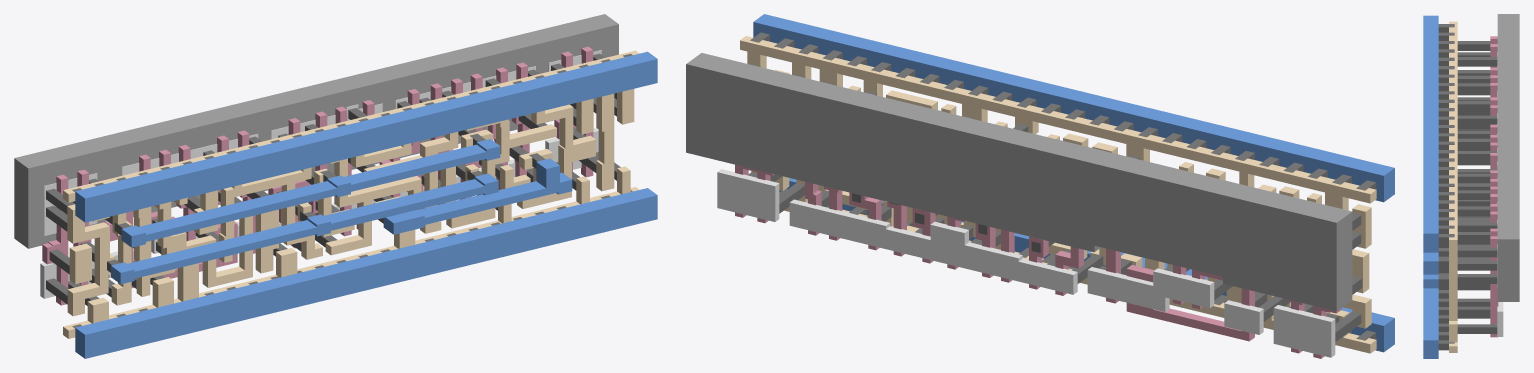
The model's file is sky130_fd_sc_hd__sdfrtp_2.gds.gltf.
3 renders of one model, left to right at view 1: azimuth 30°, elevation 25°; view 2: azimuth 150°, elevation 25°; view 3: azimuth 270°, elevation 25°, orthographic. The views are drawn at different scales.
Visible parts, largest first — view 1: sky130_fd_sc_hd__sdfrtp_2_met1, sky130_fd_sc_hd__sdfrtp_2_li1, sky130_fd_sc_hd__sdfrtp_2_nwell, sky130_fd_sc_hd__sdfrtp_2_poly, sky130_fd_sc_hd__sdfrtp_2_licon, sky130_fd_sc_hd__sdfrtp_2_diff, sky130_fd_sc_hd__sdfrtp_2_mcon; view 2: sky130_fd_sc_hd__sdfrtp_2_nwell, sky130_fd_sc_hd__sdfrtp_2_li1, sky130_fd_sc_hd__sdfrtp_2_diff, sky130_fd_sc_hd__sdfrtp_2_met1, sky130_fd_sc_hd__sdfrtp_2_poly, sky130_fd_sc_hd__sdfrtp_2_mcon, sky130_fd_sc_hd__sdfrtp_2_licon; view 3: sky130_fd_sc_hd__sdfrtp_2_licon, sky130_fd_sc_hd__sdfrtp_2_nwell, sky130_fd_sc_hd__sdfrtp_2_met1, sky130_fd_sc_hd__sdfrtp_2_mcon, sky130_fd_sc_hd__sdfrtp_2_li1, sky130_fd_sc_hd__sdfrtp_2_poly, sky130_fd_sc_hd__sdfrtp_2_diff.
Boxes of the visible parts, left/top/right/bottom form: sky130_fd_sc_hd__sdfrtp_2_met1: left=75, top=51, right=657, bottom=358; sky130_fd_sc_hd__sdfrtp_2_li1: left=63, top=50, right=639, bottom=338; sky130_fd_sc_hd__sdfrtp_2_nwell: left=14, top=14, right=618, bottom=248; sky130_fd_sc_hd__sdfrtp_2_poly: left=42, top=46, right=593, bottom=305; sky130_fd_sc_hd__sdfrtp_2_licon: left=46, top=53, right=620, bottom=305; sky130_fd_sc_hd__sdfrtp_2_diff: left=40, top=50, right=601, bottom=298; sky130_fd_sc_hd__sdfrtp_2_mcon: left=72, top=53, right=632, bottom=328; sky130_fd_sc_hd__sdfrtp_2_nwell: left=686, top=53, right=1352, bottom=311; sky130_fd_sc_hd__sdfrtp_2_li1: left=740, top=36, right=1376, bottom=353; sky130_fd_sc_hd__sdfrtp_2_diff: left=717, top=169, right=1335, bottom=357; sky130_fd_sc_hd__sdfrtp_2_met1: left=753, top=14, right=1394, bottom=352; sky130_fd_sc_hd__sdfrtp_2_poly: left=735, top=164, right=1341, bottom=358; sky130_fd_sc_hd__sdfrtp_2_mcon: left=750, top=32, right=1376, bottom=340; sky130_fd_sc_hd__sdfrtp_2_licon: left=748, top=64, right=1362, bottom=341; sky130_fd_sc_hd__sdfrtp_2_licon: left=1457, top=41, right=1497, bottom=333; sky130_fd_sc_hd__sdfrtp_2_nwell: left=1497, top=14, right=1519, bottom=301; sky130_fd_sc_hd__sdfrtp_2_met1: left=1423, top=15, right=1438, bottom=358; sky130_fd_sc_hd__sdfrtp_2_mcon: left=1438, top=24, right=1454, bottom=350; sky130_fd_sc_hd__sdfrtp_2_li1: left=1449, top=21, right=1457, bottom=352; sky130_fd_sc_hd__sdfrtp_2_poly: left=1490, top=36, right=1498, bottom=337; sky130_fd_sc_hd__sdfrtp_2_diff: left=1497, top=52, right=1503, bottom=336.
Size of the model in its own units: 12.34 by 3.2 by 2.24.
